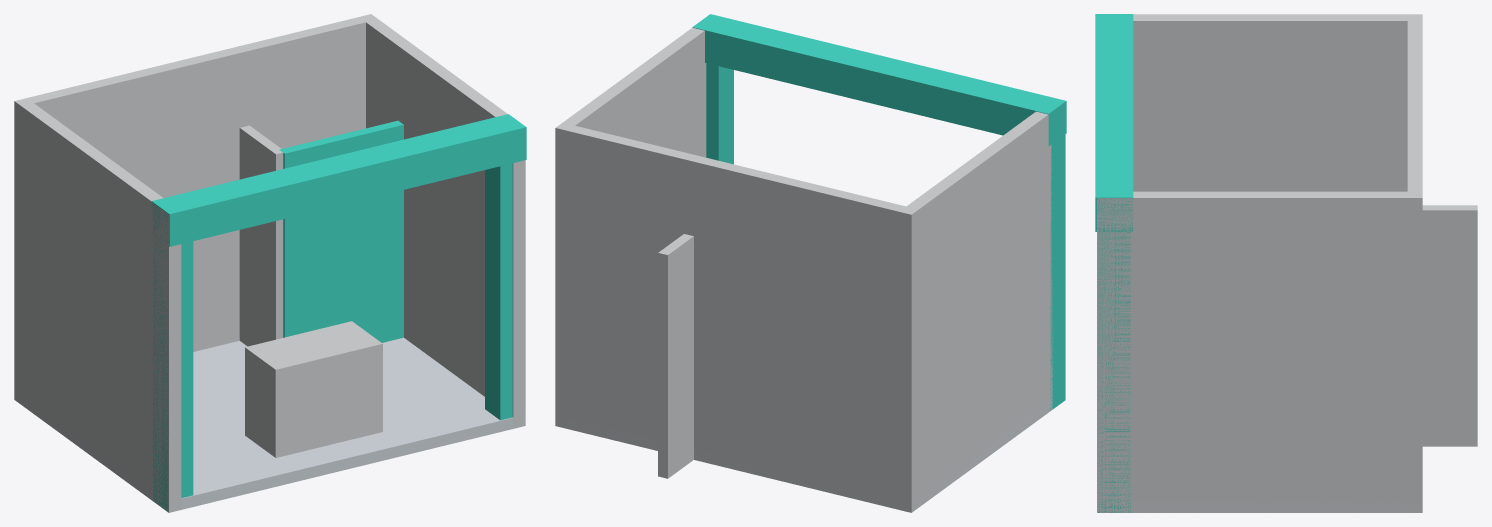
The picture shows the model from 3 angles, left to right: view 1: azimuth 30°, elevation 25°; view 2: azimuth 150°, elevation 25°; view 3: azimuth 270°, elevation 25°; orthographic projection. The views are drawn at different scales.
Parts seen in each view (by area): view 1: Exhibition Booth Concept; view 2: Exhibition Booth Concept; view 3: Exhibition Booth Concept.
Boxes of the visible parts, <box> form: Exhibition Booth Concept: <box>14,14,526,512</box>; Exhibition Booth Concept: <box>555,14,1066,512</box>; Exhibition Booth Concept: <box>1095,14,1477,512</box>.
Size of the model in its own units: 4 by 3.2 by 3.52.
